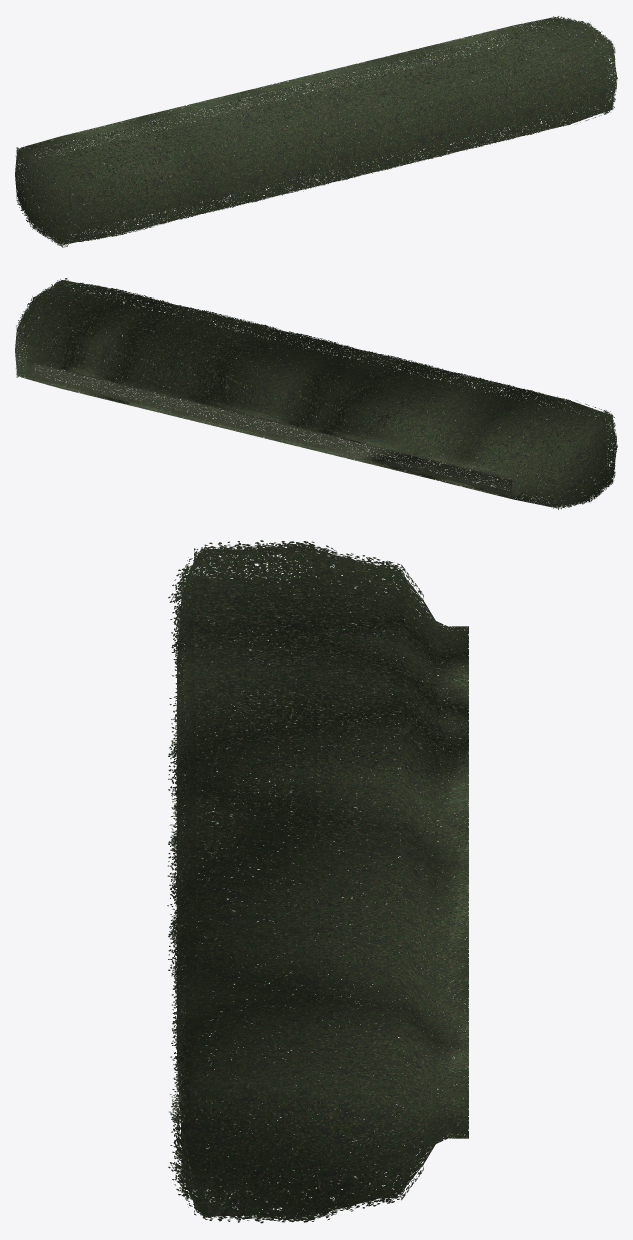
The model's file is nt_2020_foliage_hedge_boxy_3_set_LOD0.obj.
3 views of the same model, one above another, from view 1: azimuth 30°, elevation 25°; view 2: azimuth 150°, elevation 25°; view 3: azimuth 270°, elevation 25° (orthographic). The views are drawn at different scales.
Visible parts, largest first — view 1: mtl_p6_foliage_hedge2, mtl_p6_foliage_hedge_no_alpha, mtl_p6_foliage_hedge_edge; view 2: mtl_p6_foliage_hedge2, mtl_p6_foliage_hedge_no_alpha, mtl_p6_foliage_hedge_edge; view 3: mtl_p6_foliage_hedge2, mtl_p6_foliage_hedge_no_alpha, mtl_p6_foliage_hedge_edge.
Boxes of the visible parts, box(x1,y1,x2,y2) form: mtl_p6_foliage_hedge2: box(15, 17, 616, 243); mtl_p6_foliage_hedge_no_alpha: box(27, 29, 607, 232); mtl_p6_foliage_hedge_edge: box(15, 16, 617, 247); mtl_p6_foliage_hedge2: box(15, 280, 616, 507); mtl_p6_foliage_hedge_no_alpha: box(27, 292, 607, 495); mtl_p6_foliage_hedge_edge: box(16, 278, 617, 509); mtl_p6_foliage_hedge2: box(177, 547, 468, 1217); mtl_p6_foliage_hedge_no_alpha: box(185, 578, 467, 1186); mtl_p6_foliage_hedge_edge: box(167, 540, 423, 1223).
Bounding box in the file's own units: 1025 × 131 × 240.
